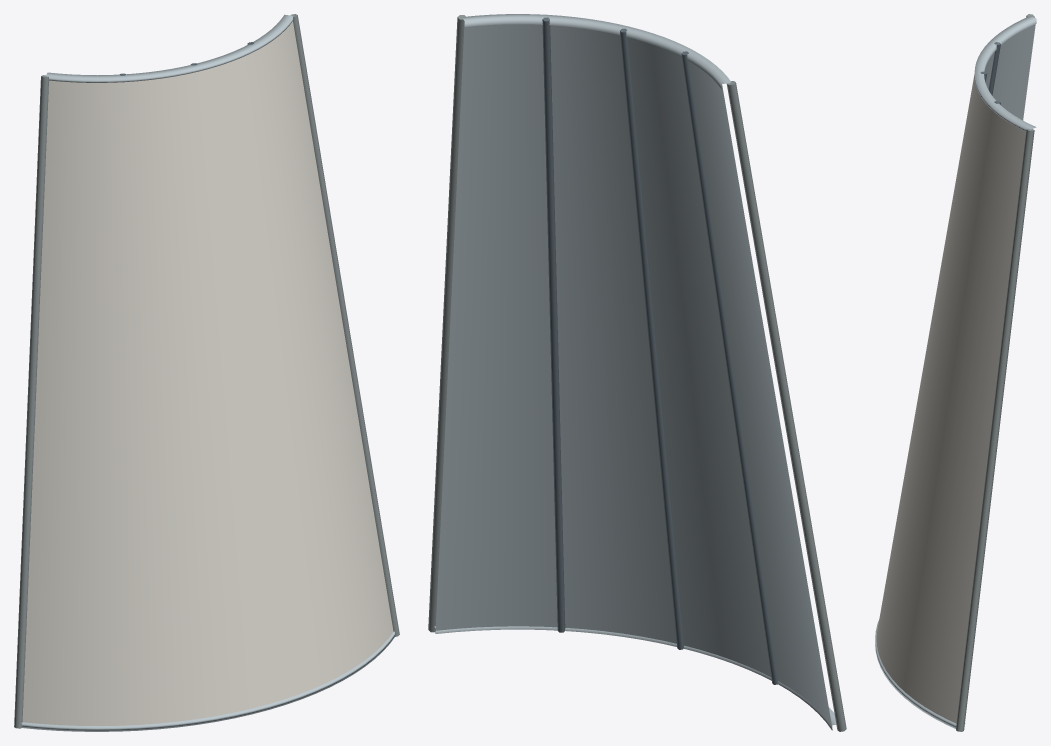
File: sla.panel_01.glb
3 views of the same model, side by side, from view 1: azimuth 30°, elevation 25°; view 2: azimuth 150°, elevation 25°; view 3: azimuth 270°, elevation 25° (orthographic). The views are drawn at different scales.
Visible parts, largest first — view 1: sla.panel_01.mesh; view 2: sla.panel_01.mesh; view 3: sla.panel_01.mesh.
Boxes of the visible parts, x1,y1,x2,y2 form: sla.panel_01.mesh: (14,14,399,731); sla.panel_01.mesh: (428,14,846,731); sla.panel_01.mesh: (875,14,1036,731).
Bounding box in the file's own units: 4.26 × 6.46 × 1.65.
